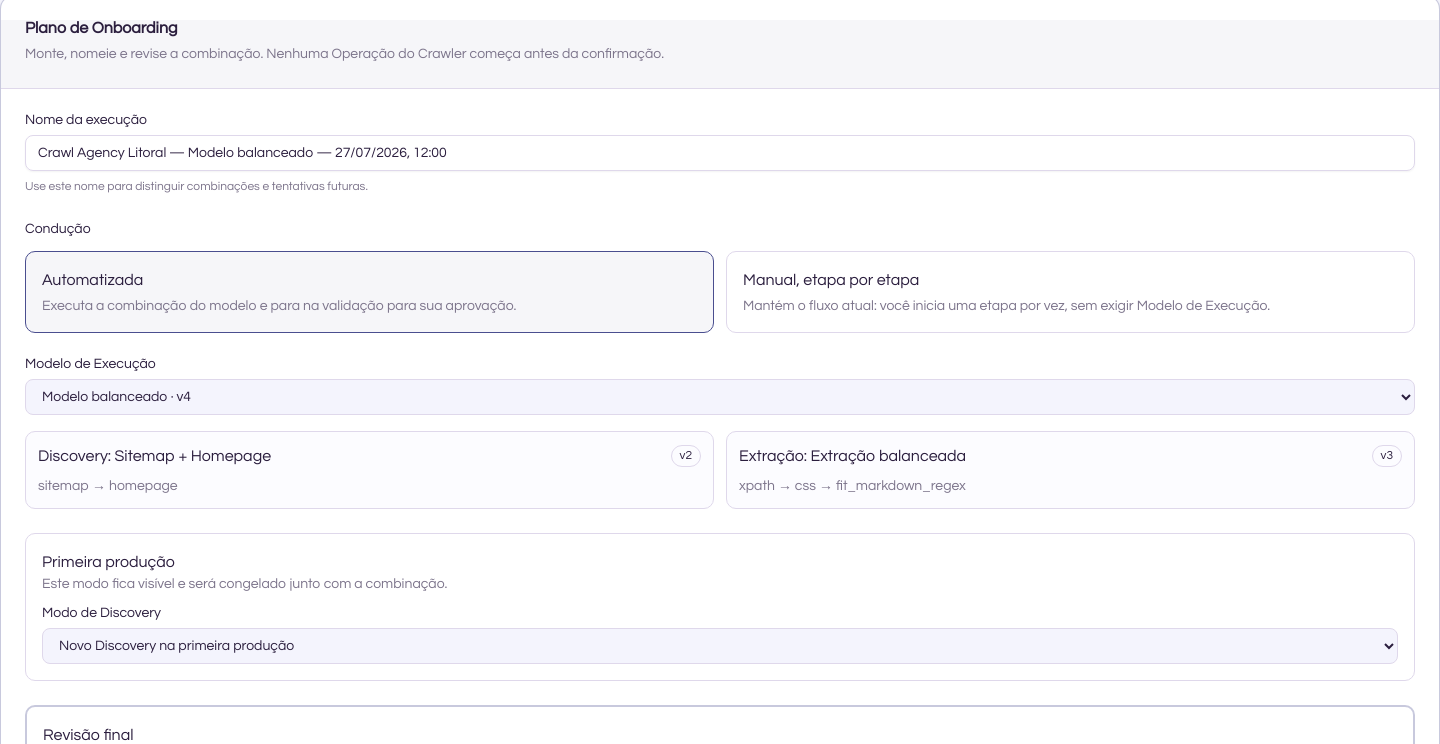
OnboardingPlanBuilder › creates and selects a new active policy only after separate confirmation
The width and height of the screenshot is (1440, 744).
Click the button "Manual, etapa por etapa" at (831, 280), box [726,251,1415,333]
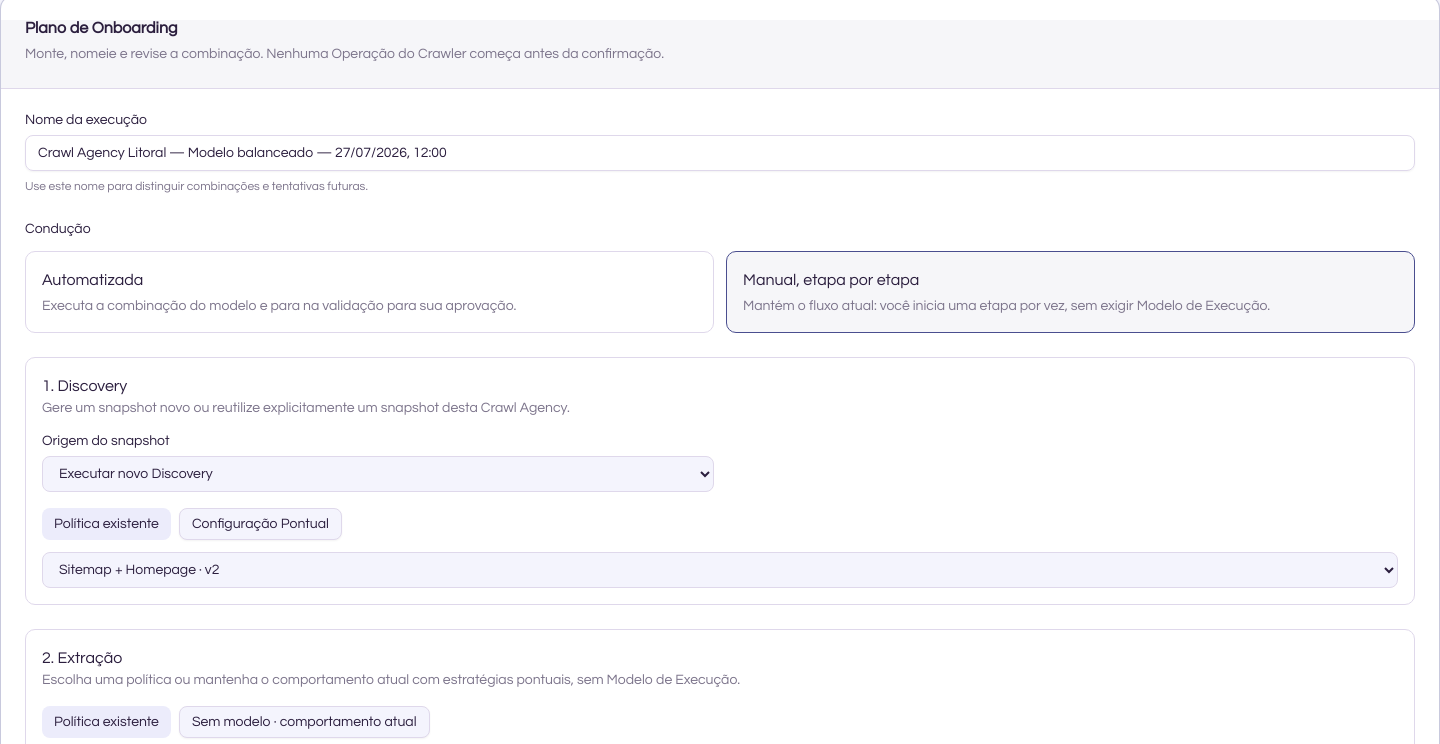
Click the button "Configuração Pontual" at (260, 524), box [179,508,342,540]
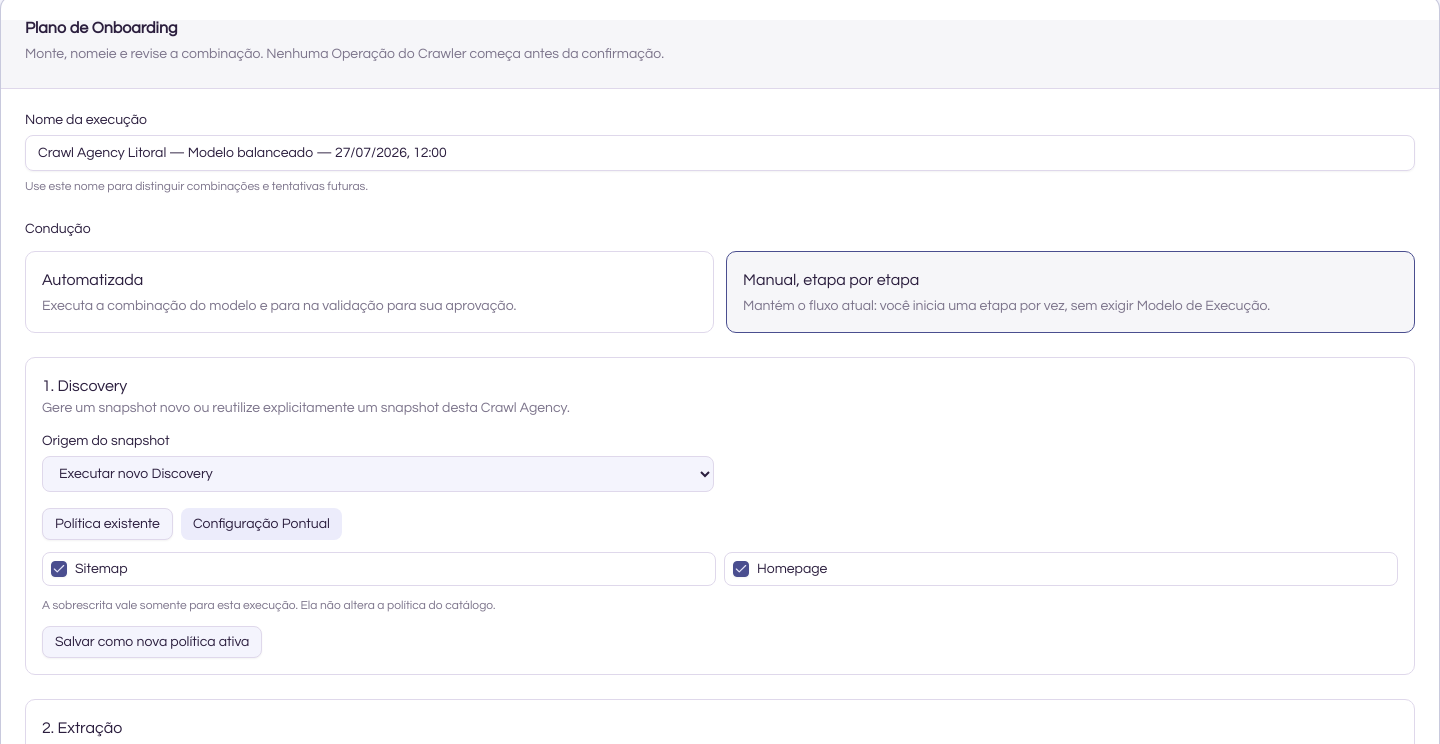
Click the button "Salvar como nova política ativa" at (152, 642), box [42,626,262,658]
(page scrolled)
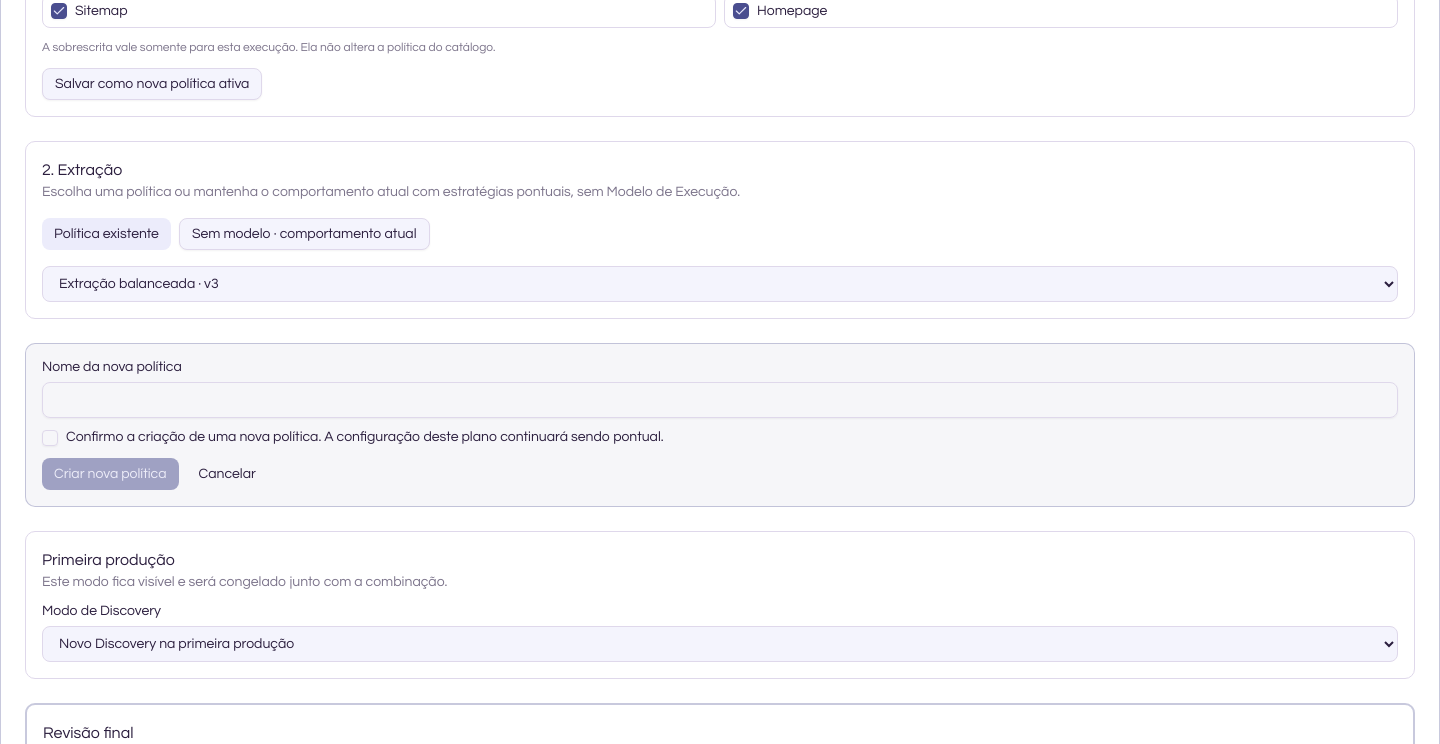
Type "Discovery Litoral pontual" into the field labelled "Nome da nova política" at (720, 400), box [42,382,1398,418]
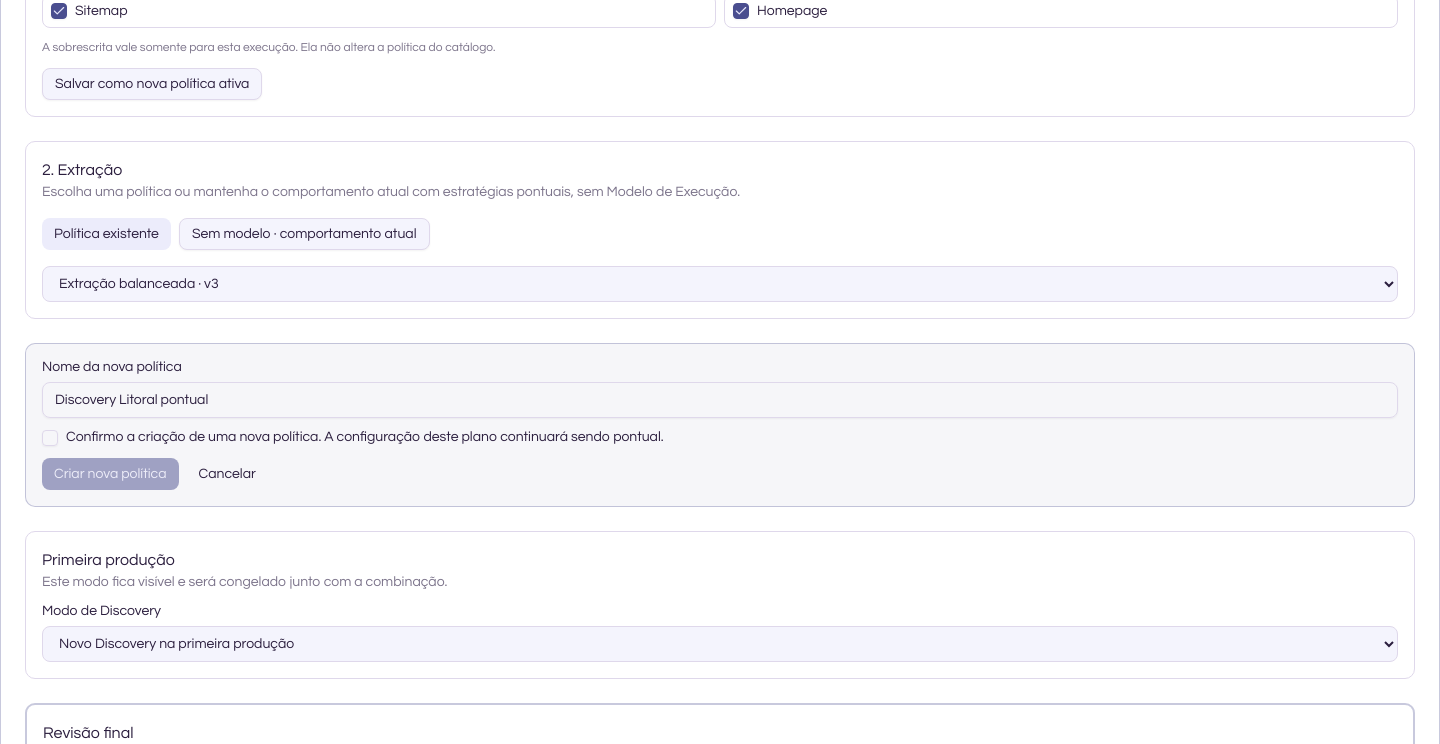
Check: the button "Criar nova política" is disabled, box [42,458,178,490]
Click the checkbox named "Confirmo a criação de uma nova política" below "Nome da nova política" at (50, 438), box [42,430,58,446]
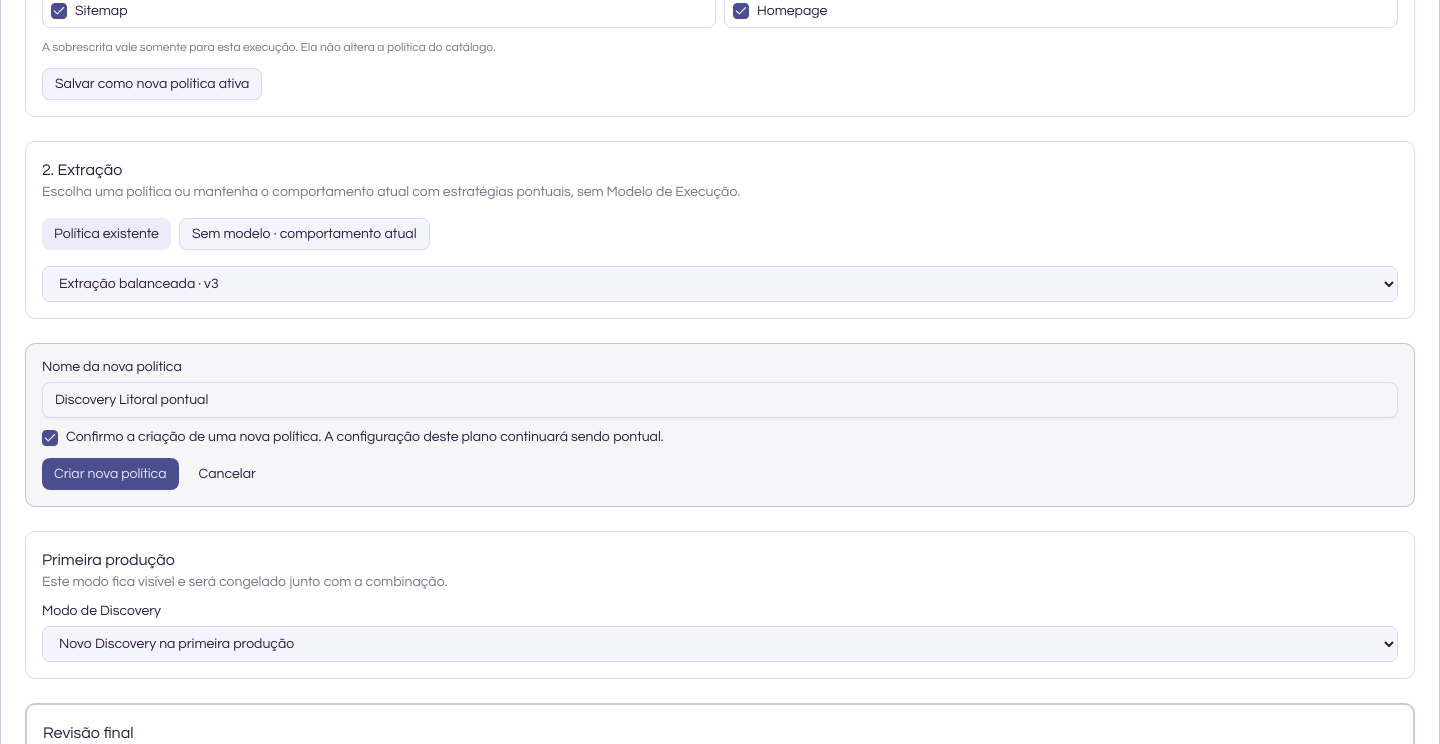
Click the button "Criar nova política" at (110, 474), box [42,458,178,490]
(page scrolled)
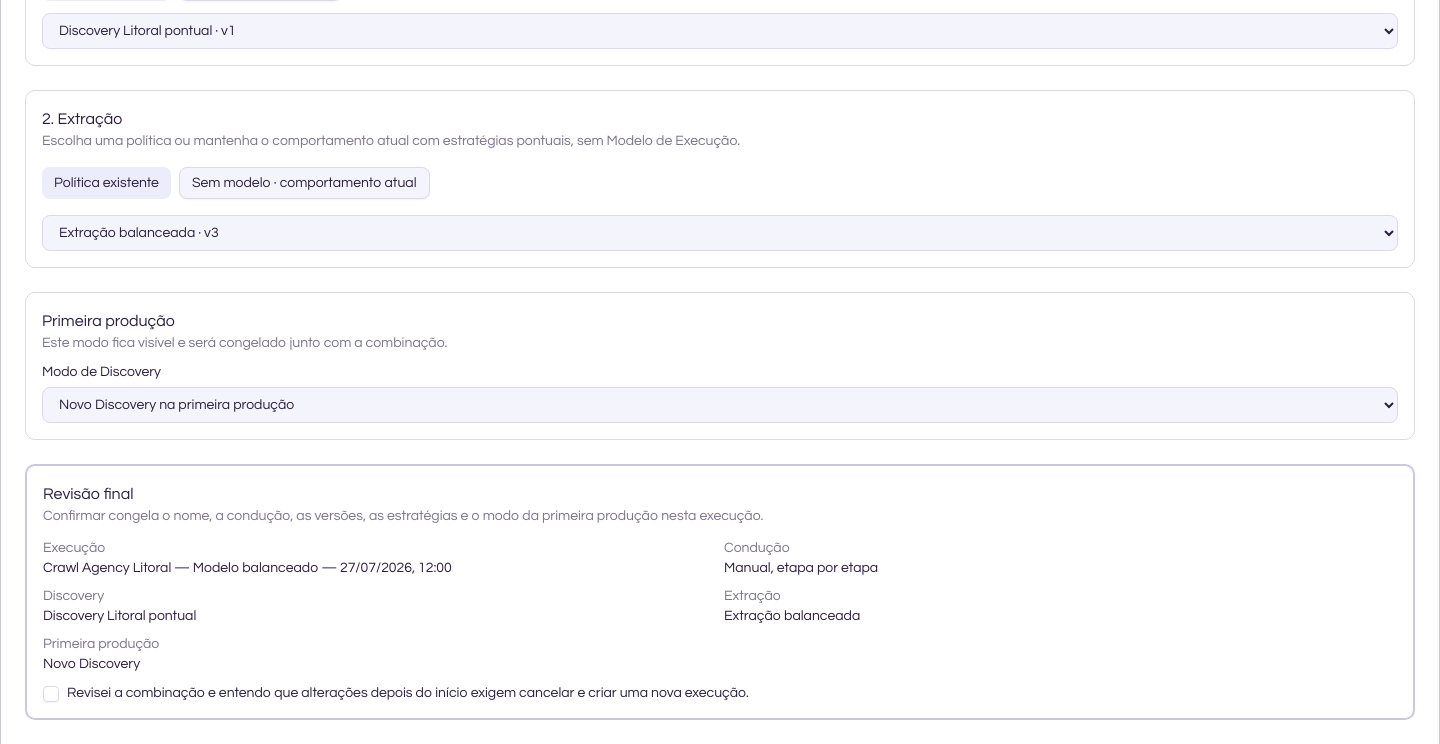
Check: the dropdown named "Política de Discovery" shows "Discovery Litoral pontual · v1", box [42,13,1398,49]
